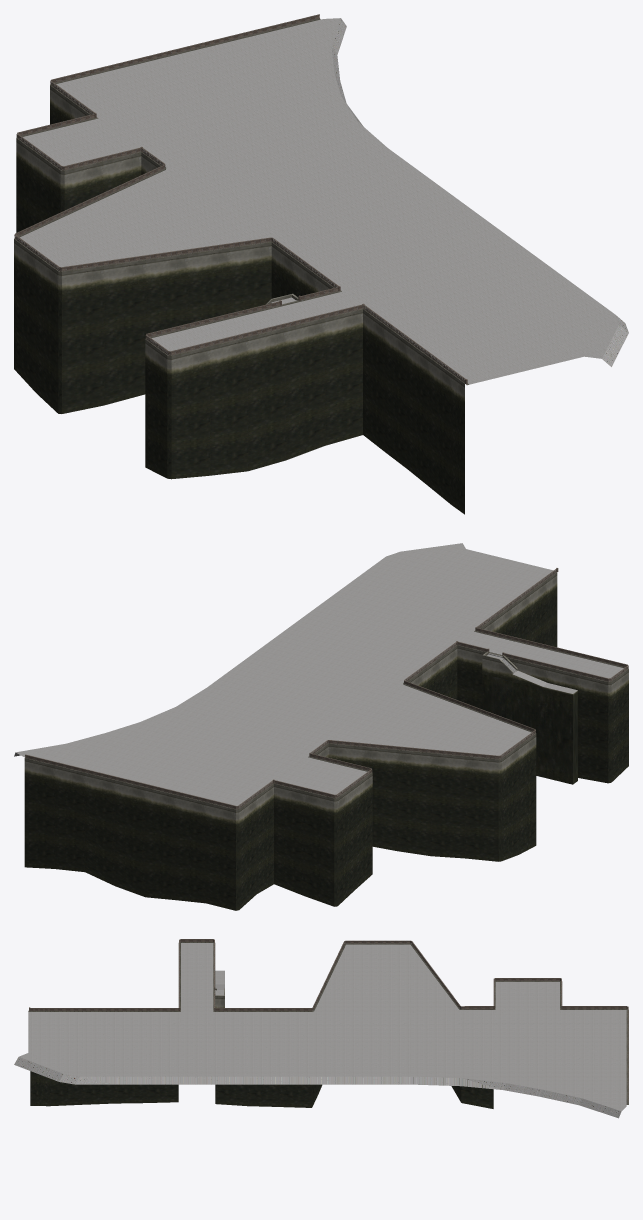
Rendered from ferryland_sfe112.obj.
The picture shows the model from 3 angles, top to bottom: view 1: azimuth 30°, elevation 25°; view 2: azimuth 150°, elevation 25°; view 3: azimuth 270°, elevation 25°; orthographic projection. The views are drawn at different scales.
Parts seen in each view (by area): view 1: ferryland_sfe112; view 2: ferryland_sfe112; view 3: ferryland_sfe112.
Boxes of the visible parts, x1=… form: ferryland_sfe112: x1=14, y1=14, x2=628, y2=514; ferryland_sfe112: x1=14, y1=543, x2=628, y2=910; ferryland_sfe112: x1=14, y1=939, x2=628, y2=1118.
Size of the model in its own units: 146 by 42.75 by 223.
Materials: 6 (6 with a texture image).
